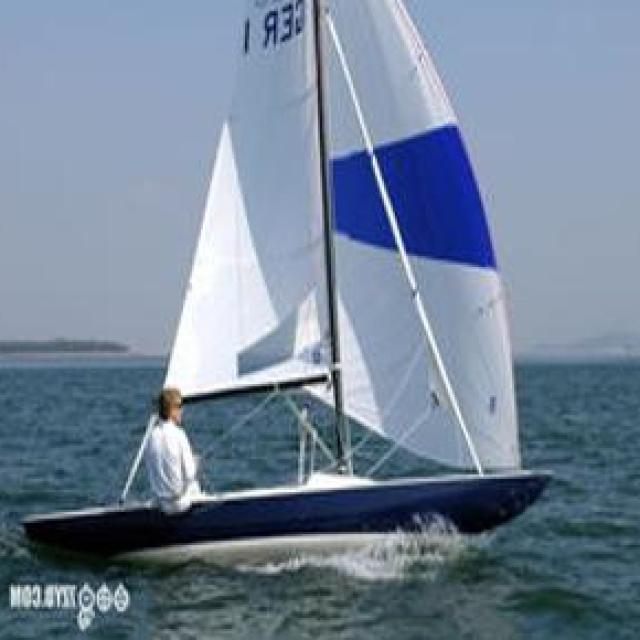sailboat: (27, 0, 550, 563)
